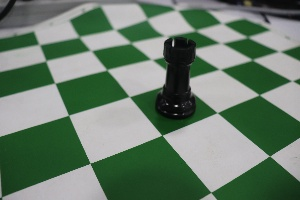black_rook: (148, 21, 204, 124)
